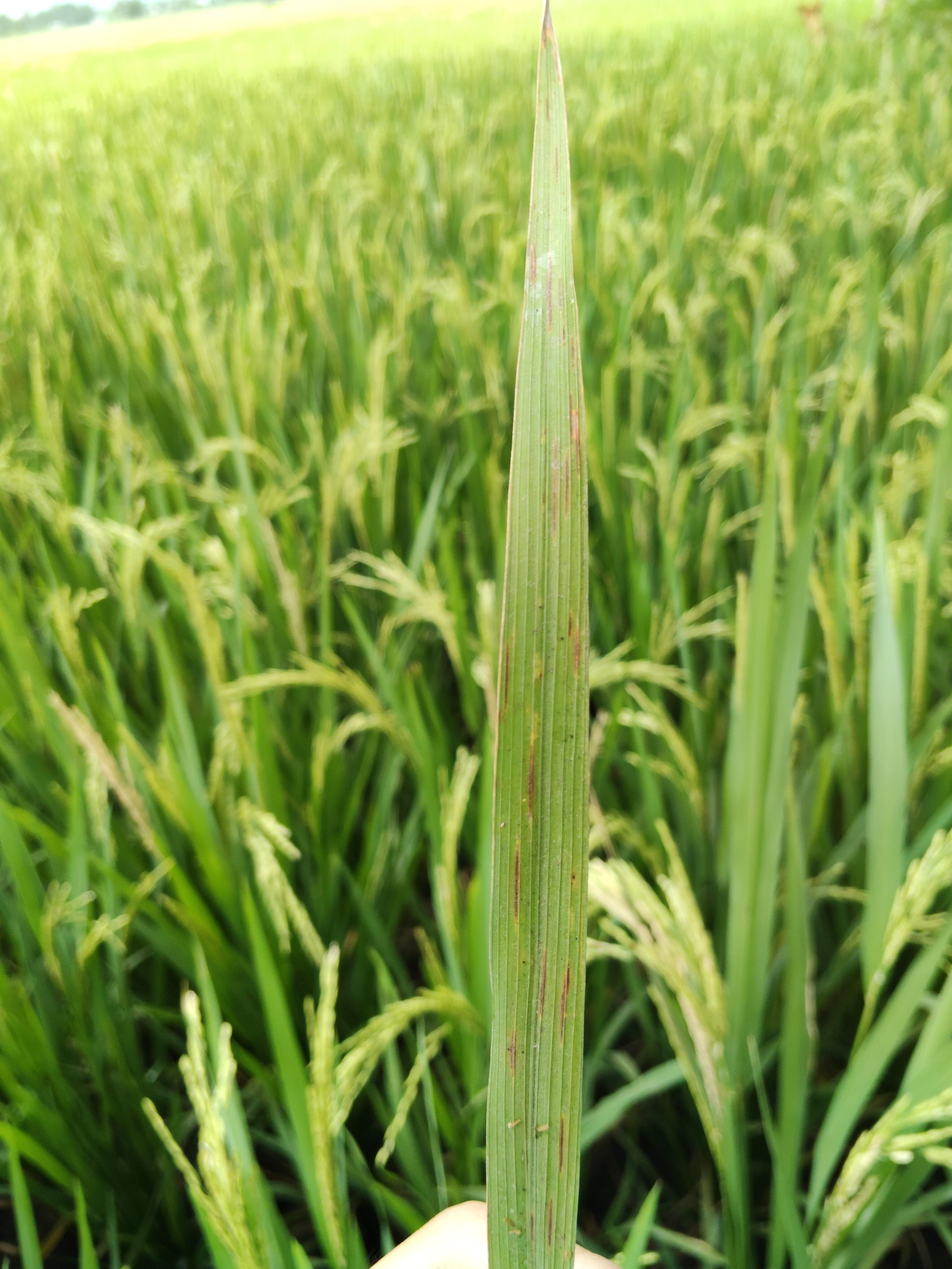NBS: (569, 394, 581, 480), (560, 965, 571, 1039), (551, 437, 558, 540), (537, 949, 547, 1018), (528, 734, 535, 821), (513, 839, 520, 918), (547, 253, 553, 334), (507, 1030, 516, 1076), (504, 645, 510, 712), (559, 1114, 565, 1172), (547, 1197, 553, 1246), (529, 1209, 536, 1251), (574, 625, 580, 674), (565, 450, 569, 517), (531, 243, 537, 283), (558, 274, 563, 311), (567, 610, 573, 640), (555, 147, 559, 183), (546, 96, 550, 122), (571, 333, 574, 367), (563, 326, 566, 341), (544, 428, 547, 436)
